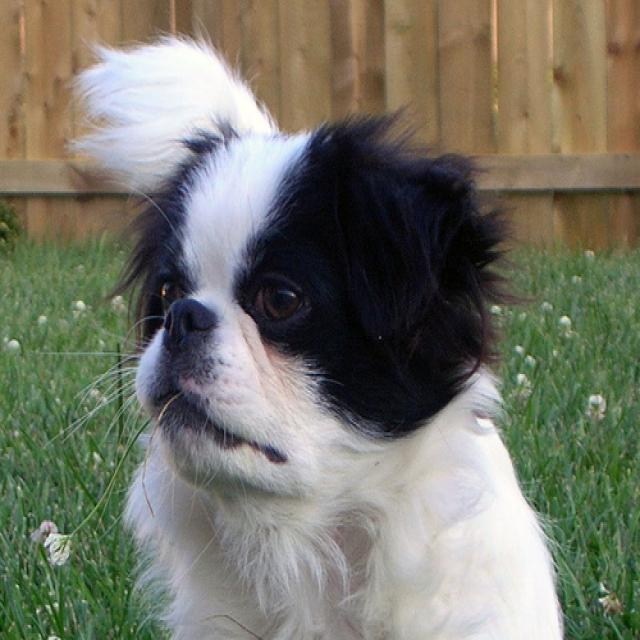dog-japanese_chin: (76, 33, 568, 637)
